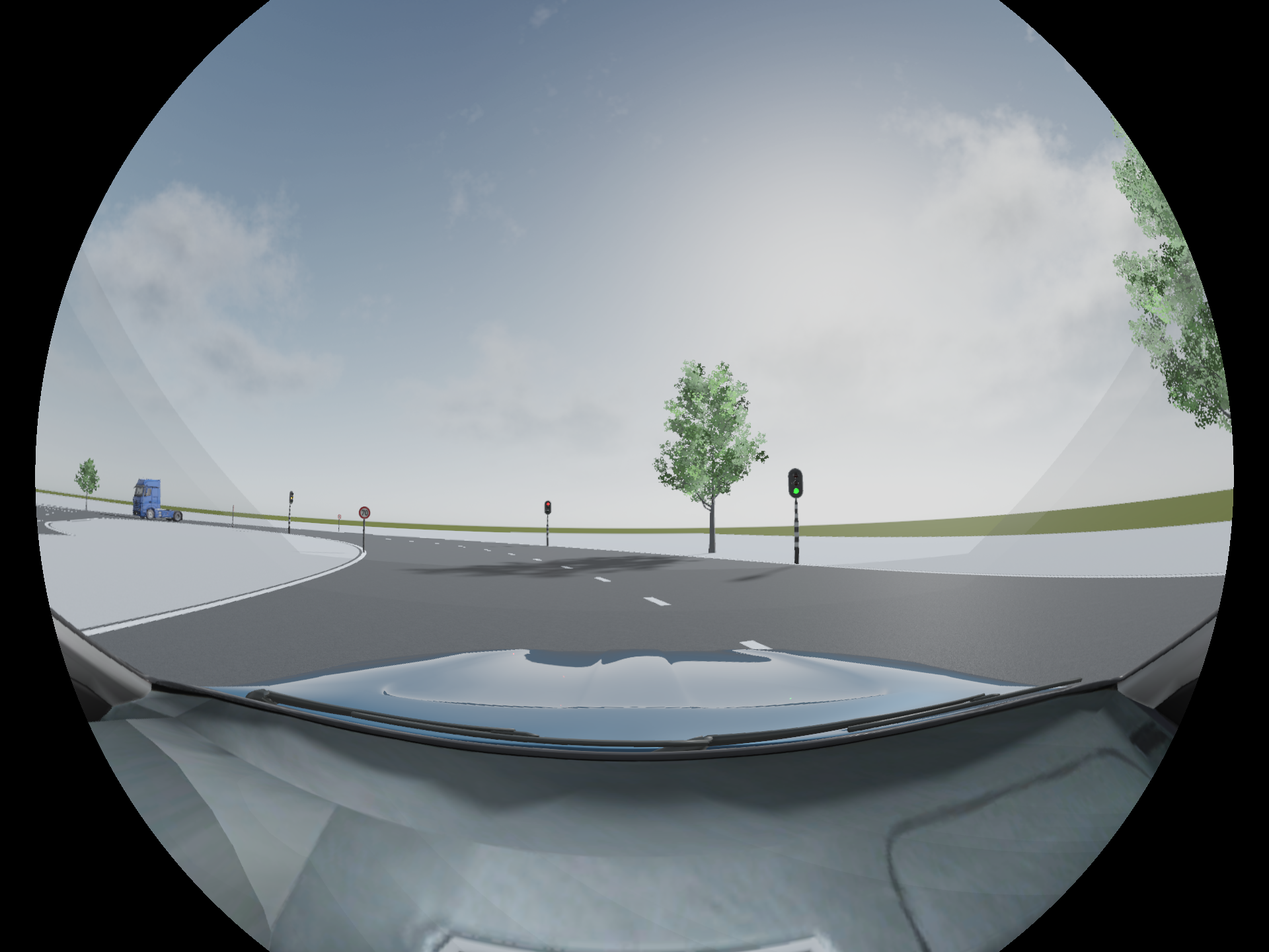Green Light: (788, 468, 804, 499)
Red Light: (544, 501, 552, 516)
Speed Limit 70: (359, 506, 371, 518)
